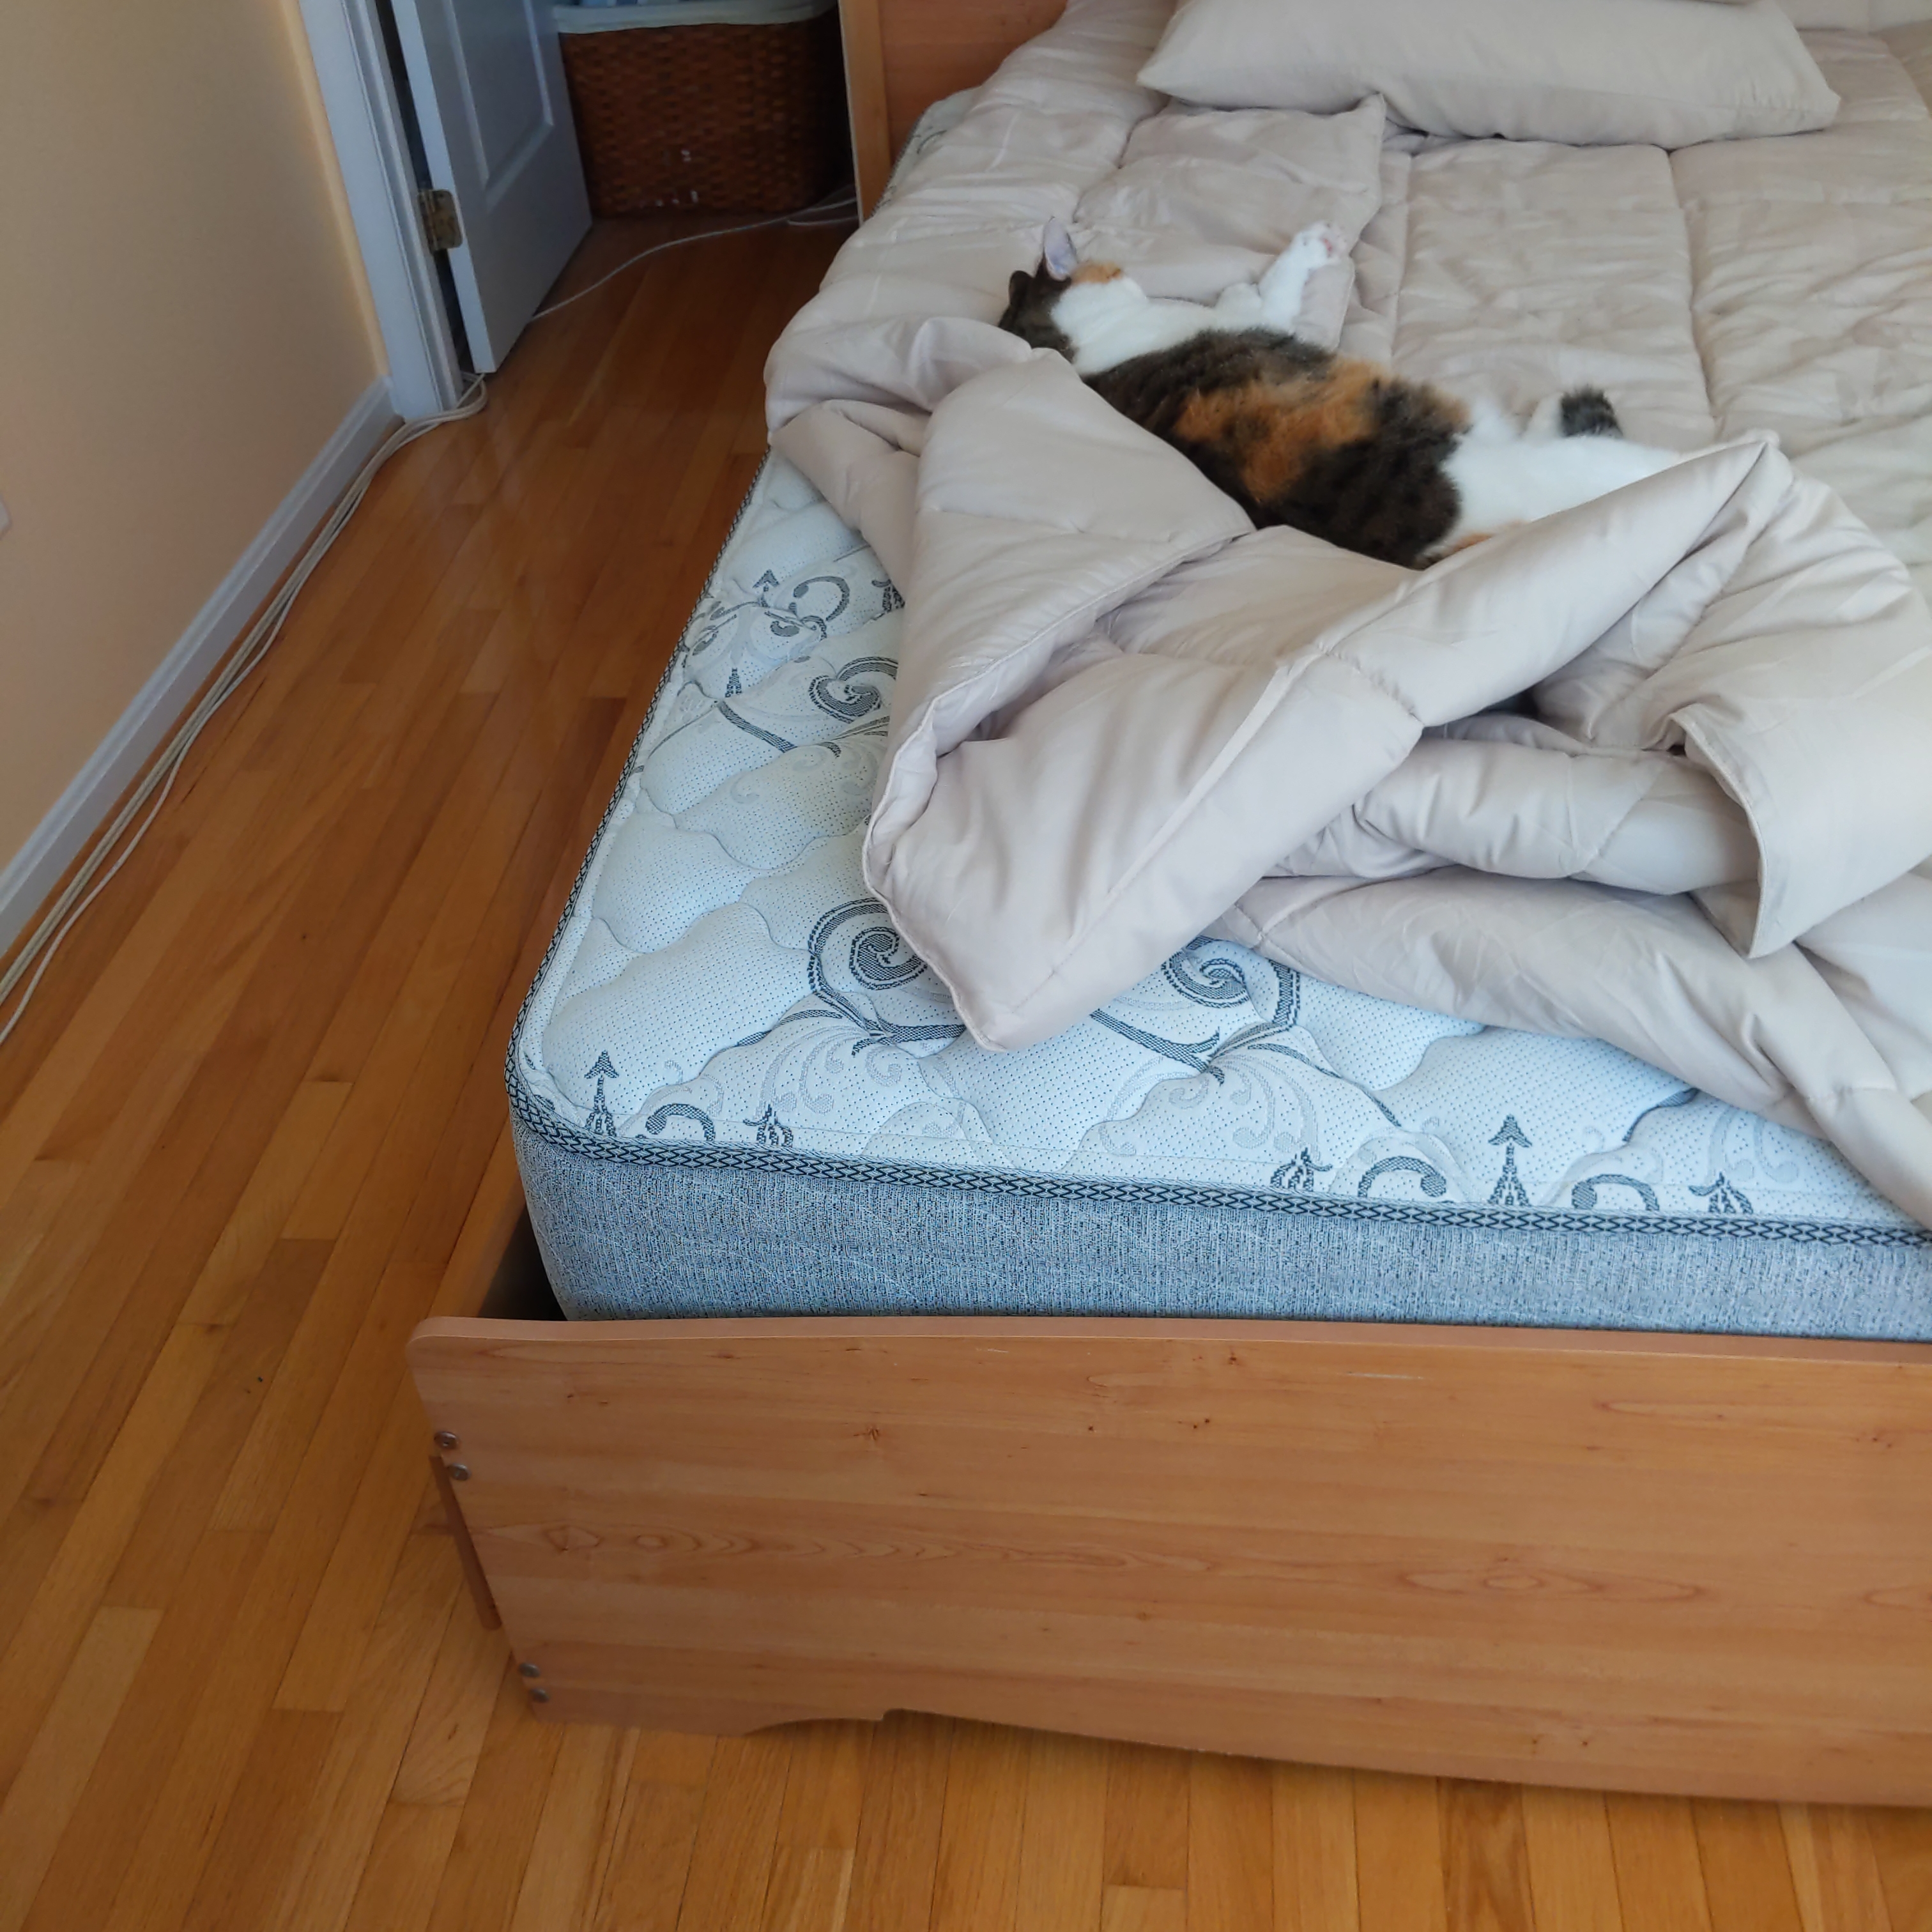Calico: (1001, 218, 1783, 568)
